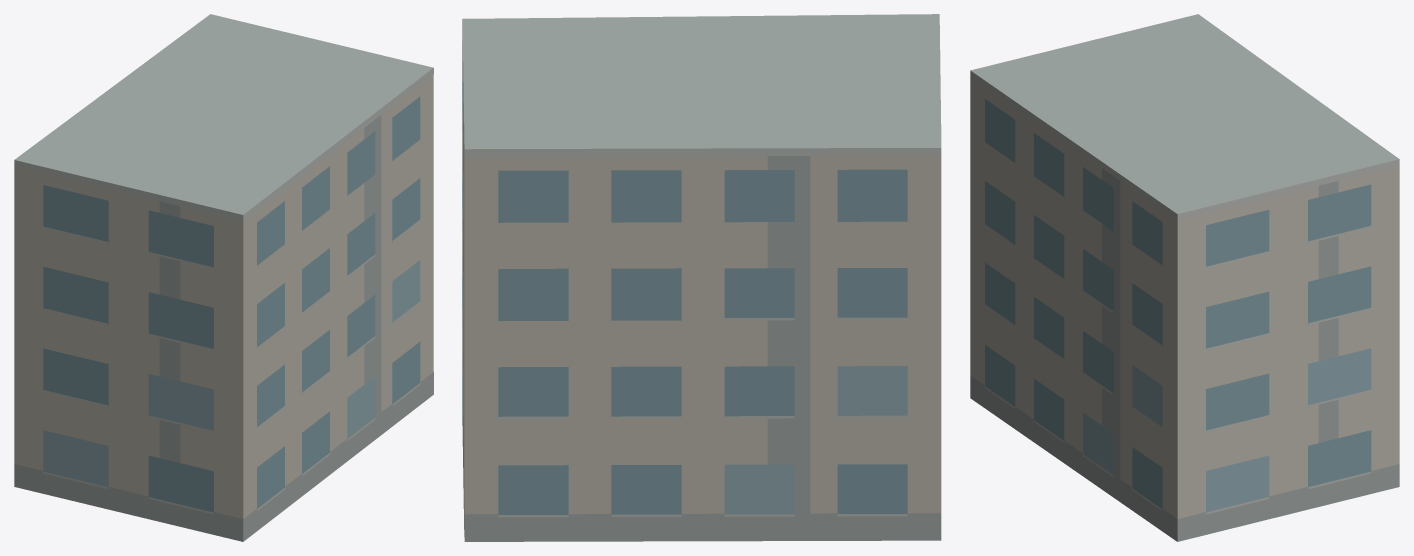
Rendered from residential-813a47d1-acb1-4da7-ac72-bcacc650b4d3.glb.
The picture shows the model from 3 angles, left to right: view 1: azimuth 30°, elevation 25°; view 2: azimuth 150°, elevation 25°; view 3: azimuth 270°, elevation 25°; orthographic projection. The views are drawn at different scales.
Parts seen in each view (by area): view 1: residential-813a47d1-acb1-4da7-ac72-bcacc650b4d3.tmp; view 2: residential-813a47d1-acb1-4da7-ac72-bcacc650b4d3.tmp; view 3: residential-813a47d1-acb1-4da7-ac72-bcacc650b4d3.tmp.
Boxes of the visible parts, box(x1,y1,x2,y2) form: residential-813a47d1-acb1-4da7-ac72-bcacc650b4d3.tmp: box(14, 14, 433, 541); residential-813a47d1-acb1-4da7-ac72-bcacc650b4d3.tmp: box(462, 14, 941, 541); residential-813a47d1-acb1-4da7-ac72-bcacc650b4d3.tmp: box(970, 14, 1399, 541).
Size of the model in its own units: 15.99 by 12.2 by 14.49.
